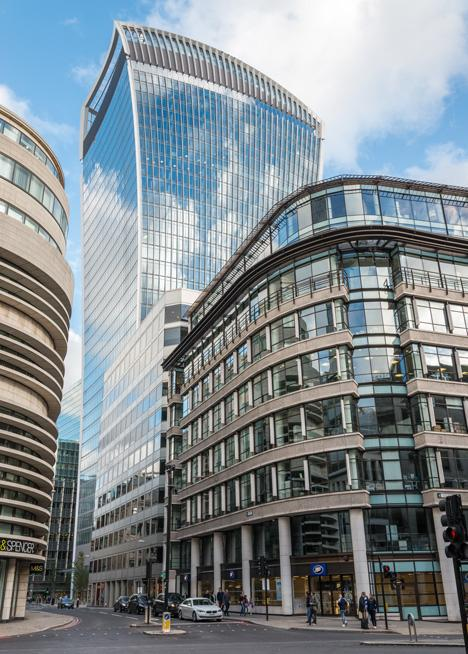Walkie talkie: (68, 8, 331, 352)
